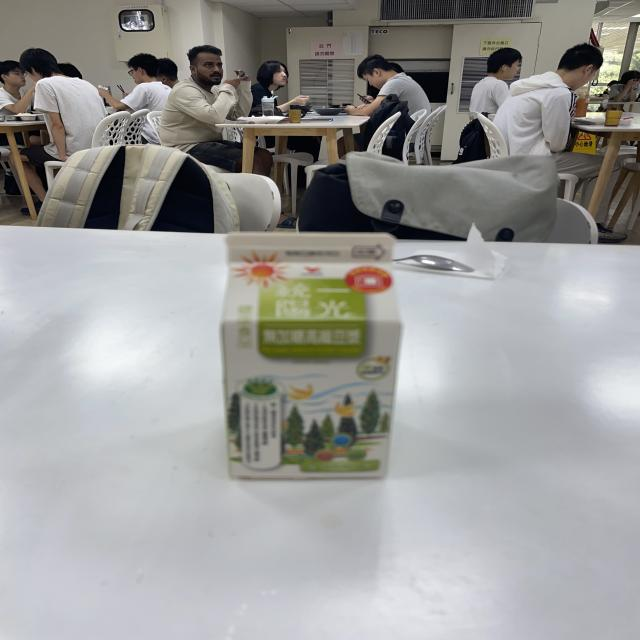TongYi_UnsweetenedHighFiberSoyMilk: (218, 226, 406, 489)
